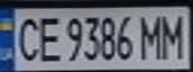3: (81, 12, 103, 63)
6: (115, 12, 139, 61)
8: (96, 12, 121, 62)
9: (60, 12, 84, 62)
C: (9, 12, 42, 63)
E: (33, 12, 63, 64)
M: (157, 11, 190, 60), (136, 11, 166, 61)
